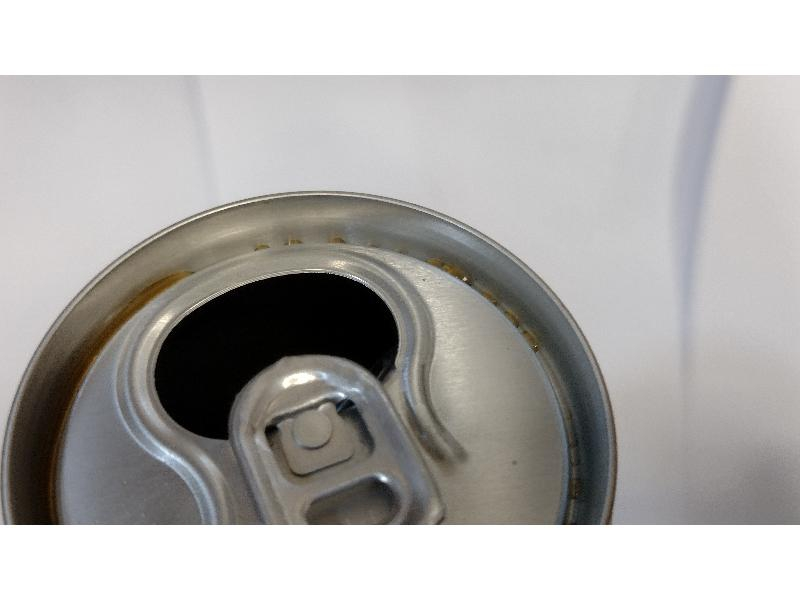can: (6, 196, 614, 519)
